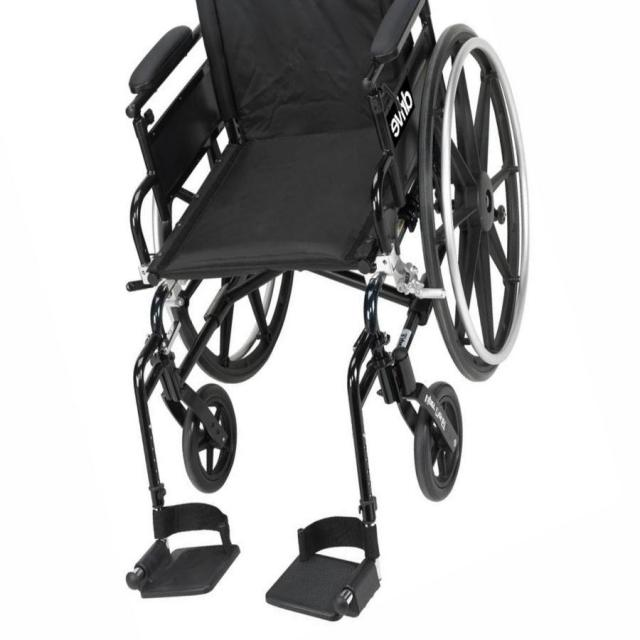wheelchair: (106, 0, 534, 630)
